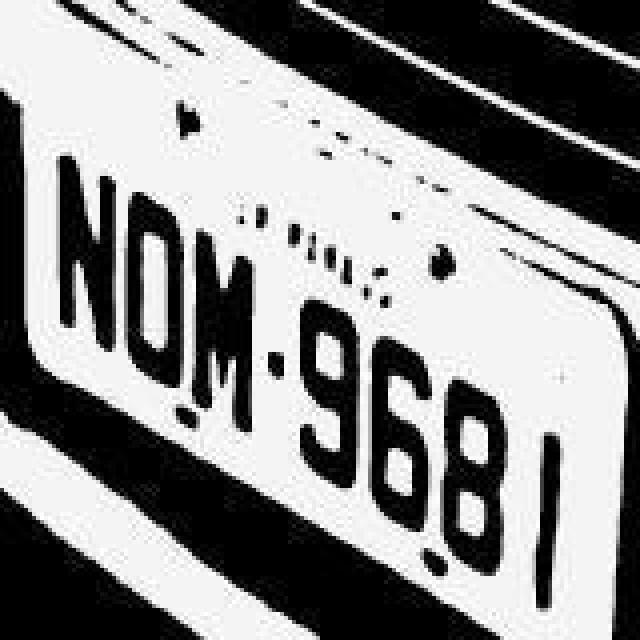1: (522, 422, 574, 626)
6: (362, 320, 438, 544)
8: (432, 356, 512, 588)
9: (290, 278, 366, 490)
M: (186, 222, 262, 450)
N: (52, 146, 124, 366)
O: (116, 182, 188, 402)
